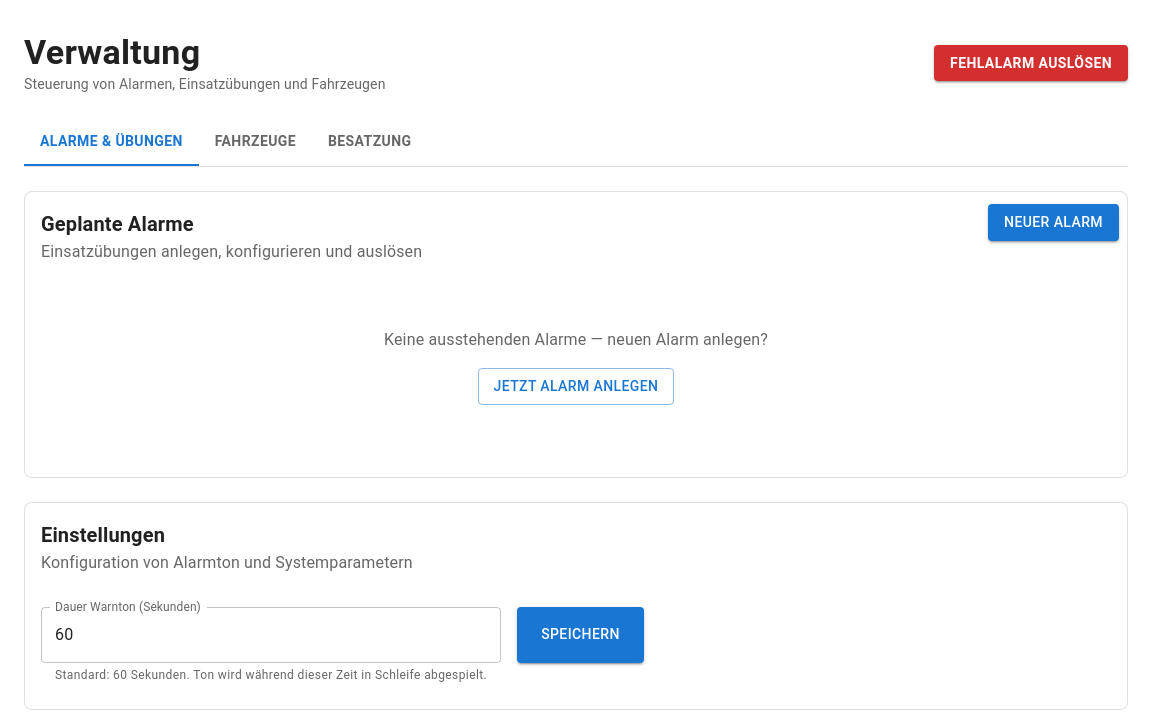
Test: AdminLayout › switches tabs between Alarme and Fahrzeuge
Expected: the text "Geplante Alarme" is shown, [41,212,194,236]
Click the tab "Fahrzeuge".
click(255, 142)  # box [199,118,312,166]
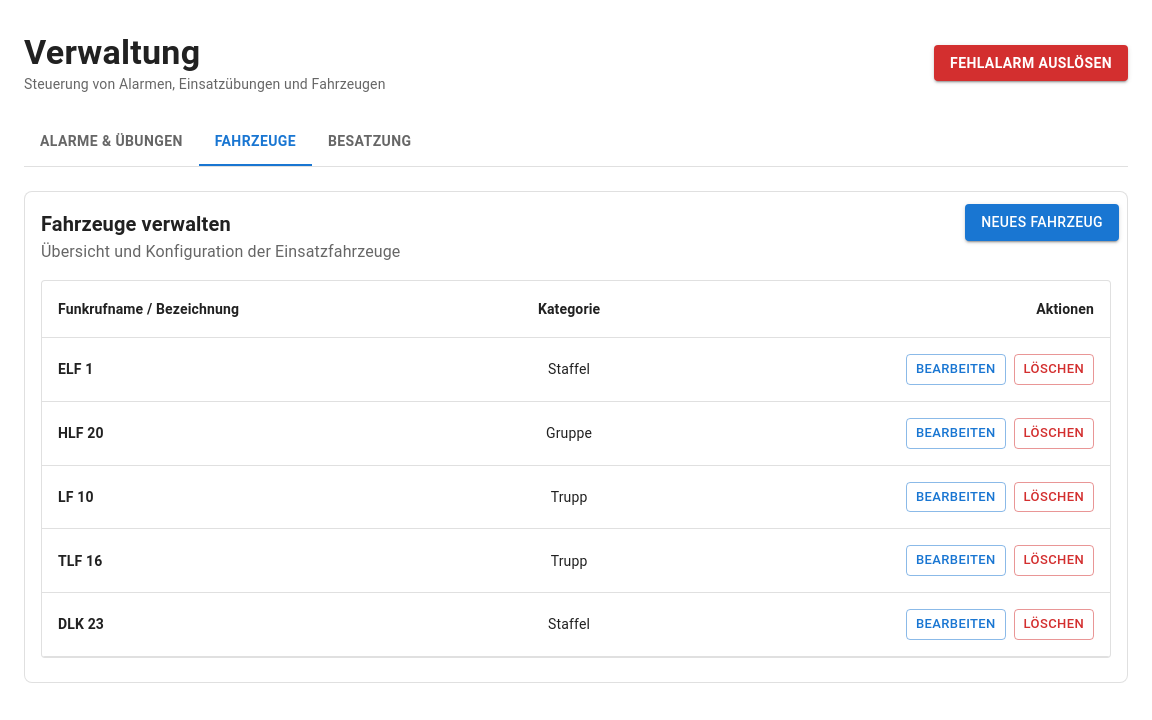
Now the text "Fahrzeuge verwalten" is shown, box [41,212,231,236]
